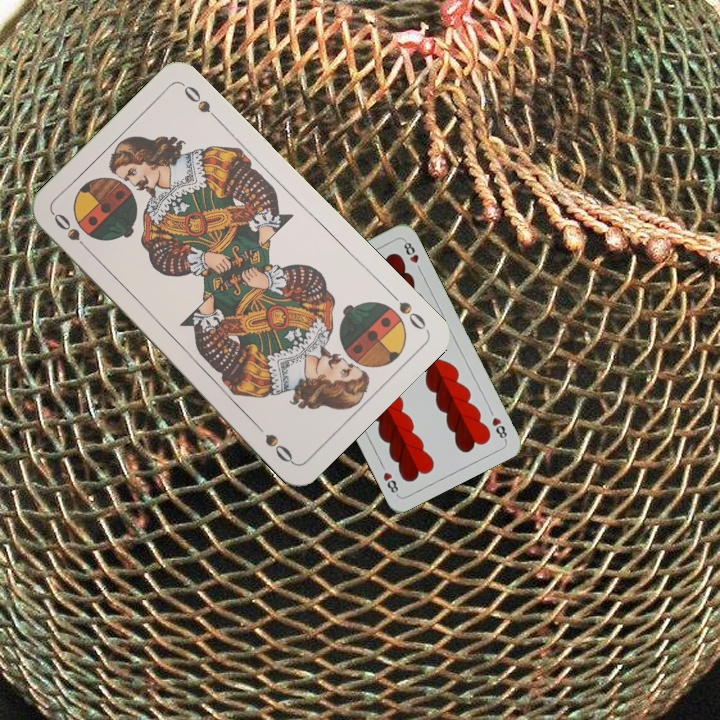H8: (488, 413, 510, 443)
SO: (49, 209, 95, 257), (384, 286, 429, 333)
